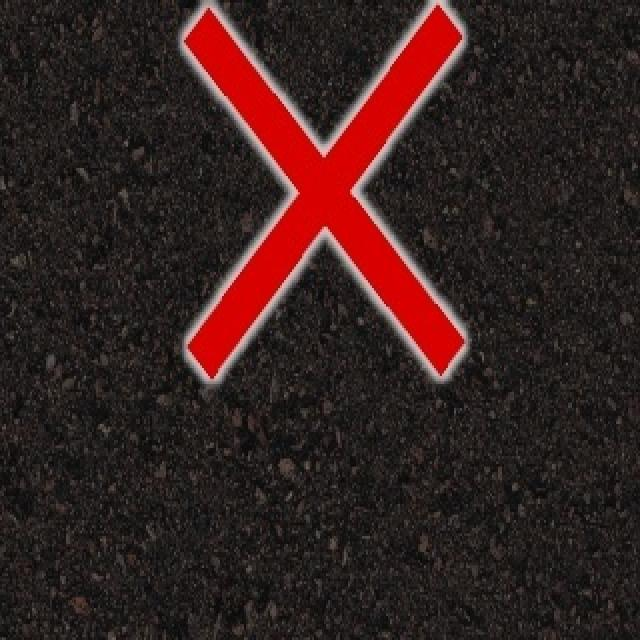x_marker: (183, 4, 463, 377)
